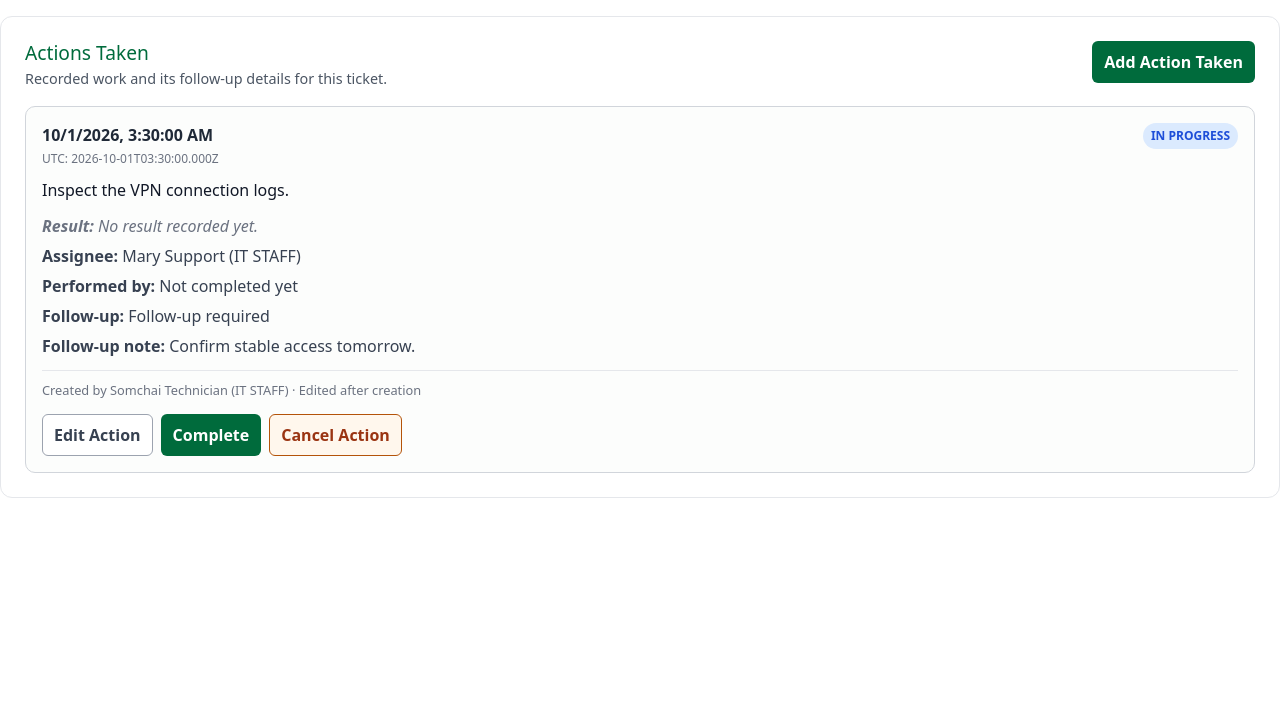
it: ActionsTaken › replaces the draft with the latest action values after a conflict reload
Step 1. Click the button "Edit Action" → (97, 435), box [42,414,153,456]
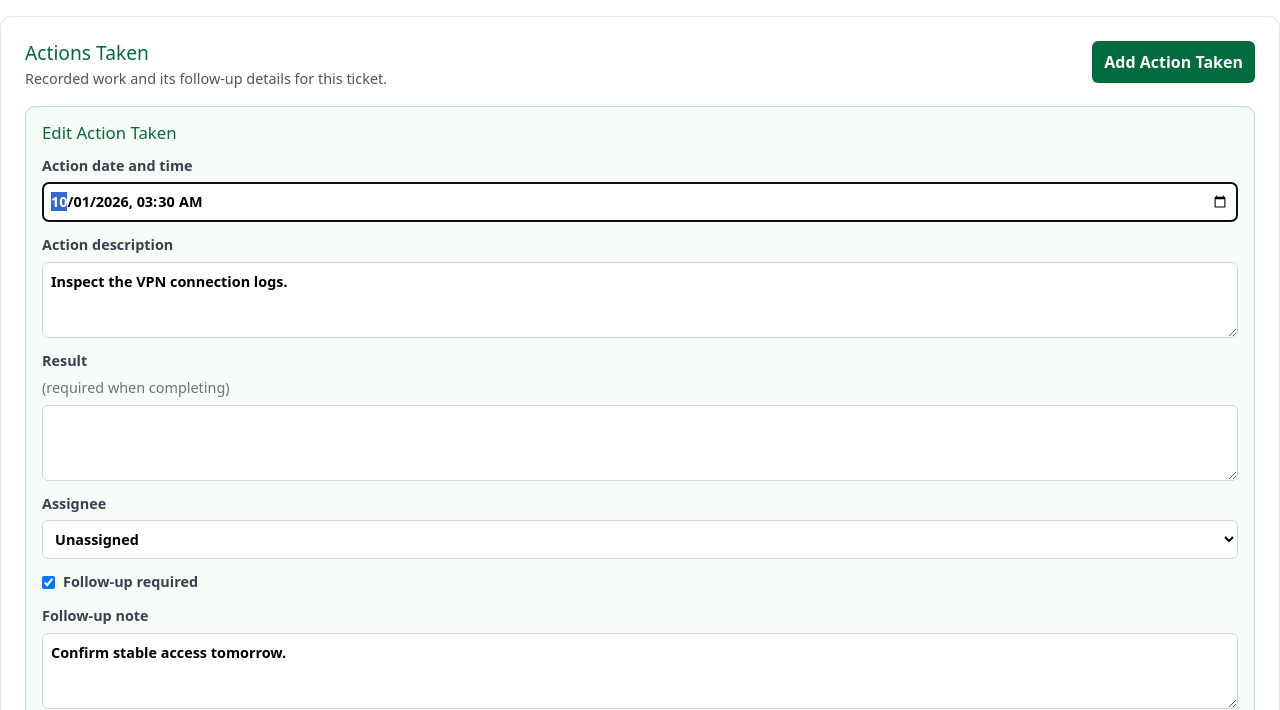
Step 2. Replace the text in the text box labelled "Action description" with "My stale draft." → (640, 300), box [42,262,1238,338]
(page scrolled)
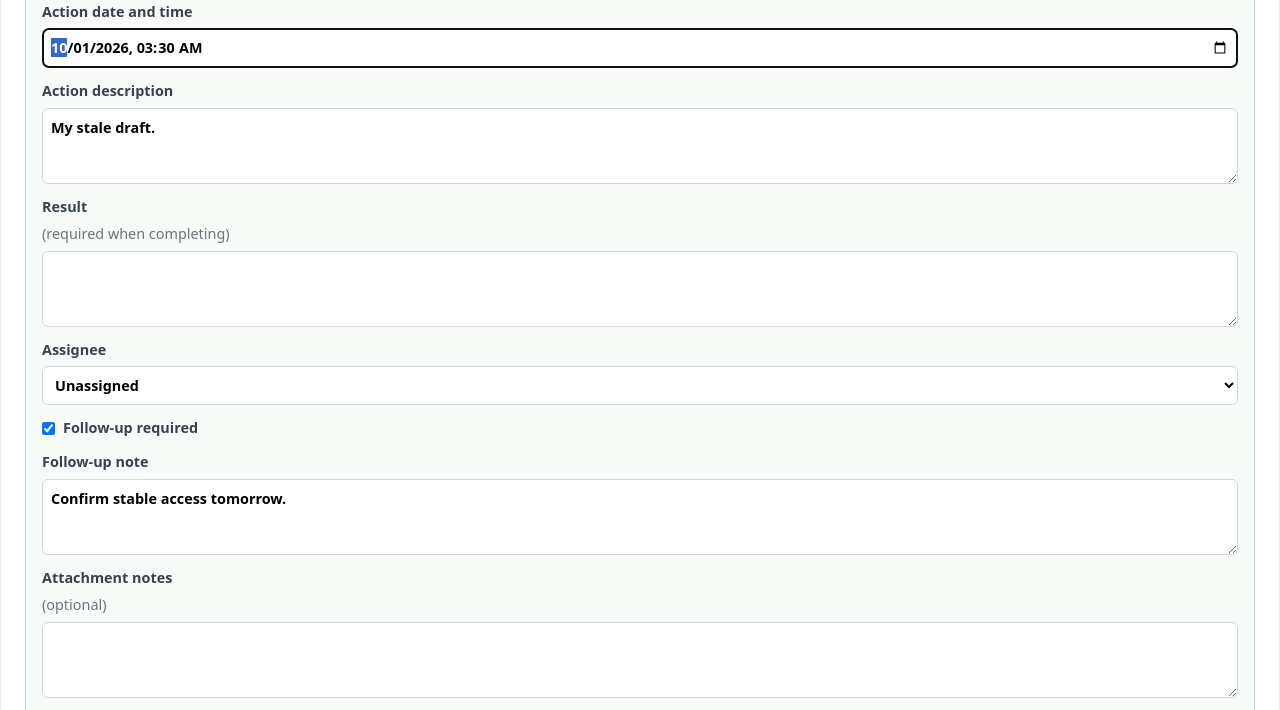
Step 3. Submit the form "Edit Action Taken"
(page scrolled)
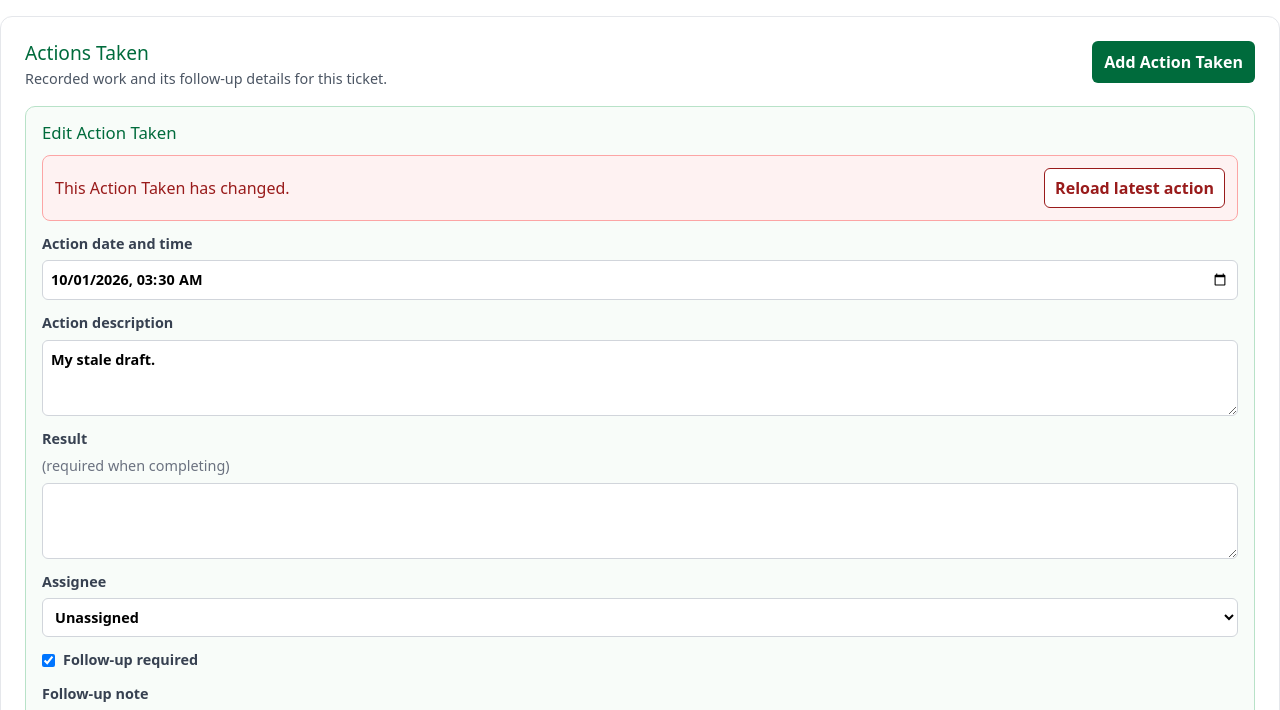
Now the message shows "This Action Taken has changed.", box [55,177,290,199]
Step 4. Click the button "Reload latest action" → (1135, 188), box [1044,168,1225,208]
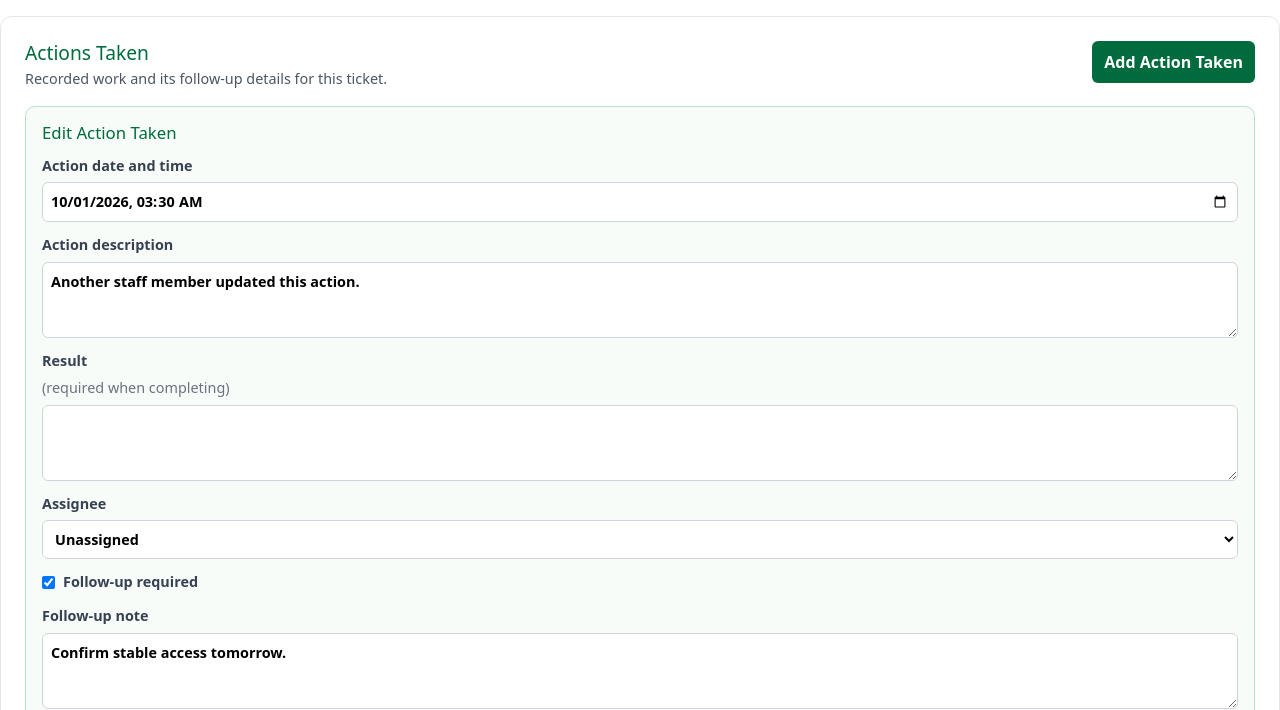
Now the text box labelled "Action description" holds "Another staff member updated this action.", box [42,262,1238,338]
